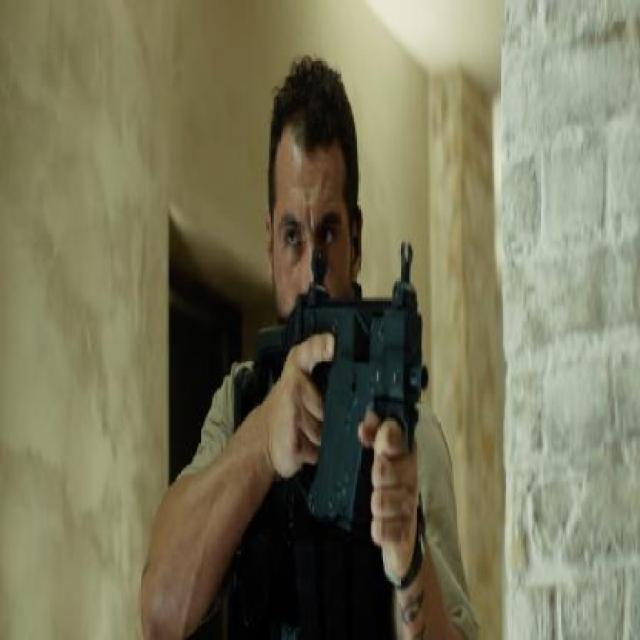gun: (238, 262, 439, 520)
